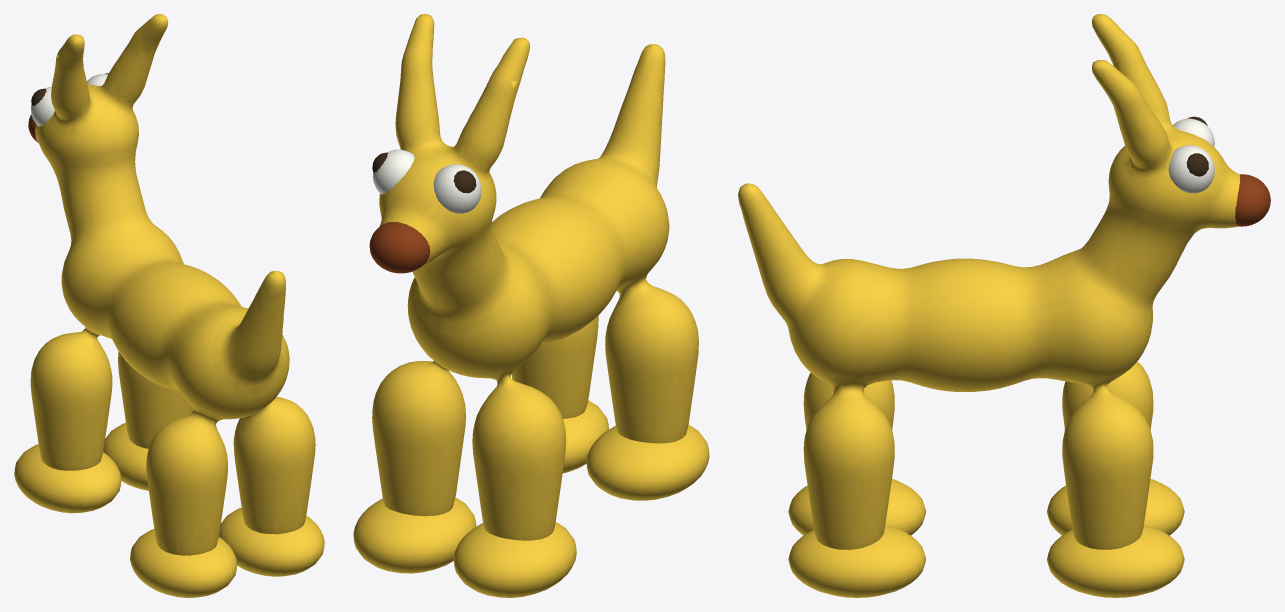
Rendered from daishu.fbx.
The picture shows the model from 3 angles, left to right: view 1: azimuth 30°, elevation 25°; view 2: azimuth 150°, elevation 25°; view 3: azimuth 270°, elevation 25°; orthographic projection. The views are drawn at different scales.
Visible parts, largest first — view 1: daishu; view 2: daishu; view 3: daishu.
Part boxes in pixels (box(x1,y1,x2,y2)): daishu: box(14, 14, 324, 597); daishu: box(353, 14, 709, 597); daishu: box(738, 14, 1270, 597).
Size of the model in its own units: 0.5059 by 1.3 by 1.19.
